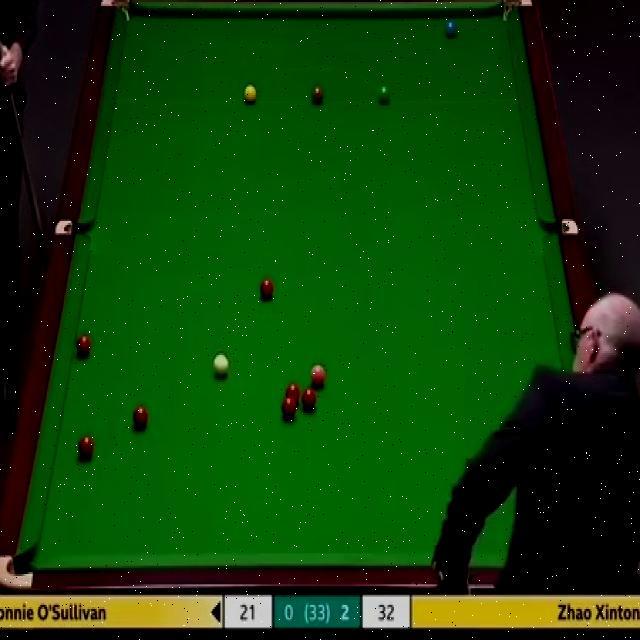blue-ball: (446, 20, 456, 41)
brown-ball: (310, 87, 324, 104)
green-ball: (377, 83, 392, 107)
pink-ball: (310, 363, 326, 387)
red-ball: (74, 333, 92, 359), (301, 387, 317, 412), (76, 435, 94, 457), (132, 406, 147, 430), (286, 382, 300, 407), (258, 278, 274, 299), (282, 397, 296, 418)
white-ball: (213, 351, 231, 380)
yellow-ball: (243, 84, 257, 105)
